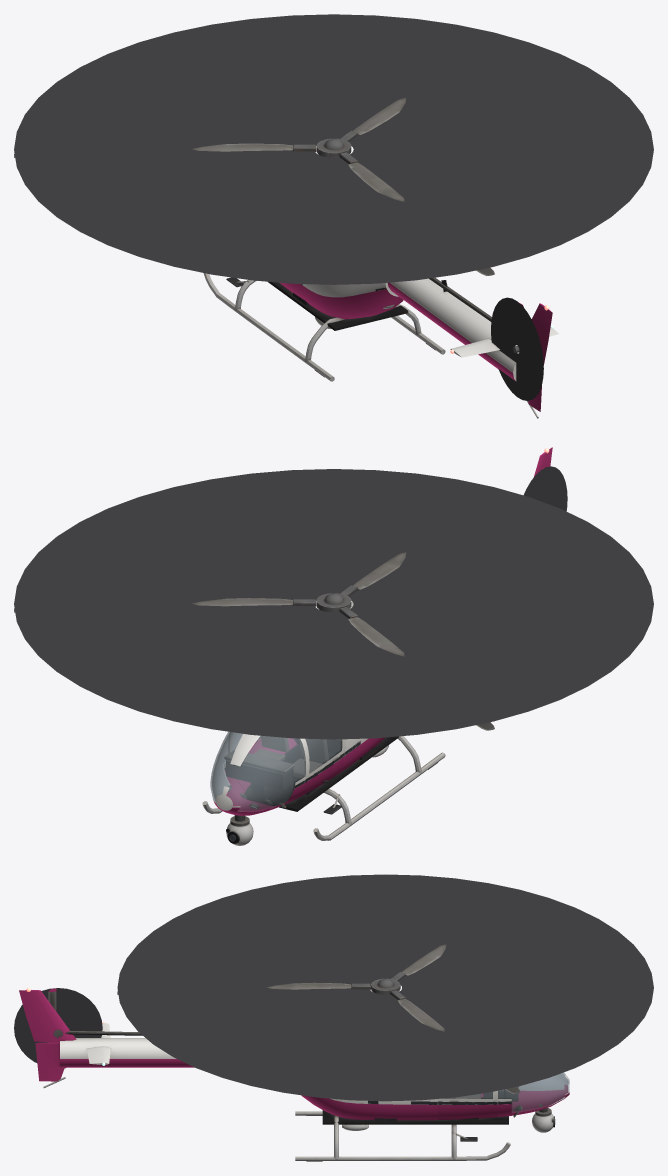
Rendered from news_helicopter.glb.
The picture shows the model from 3 angles, top to bottom: view 1: azimuth 30°, elevation 25°; view 2: azimuth 150°, elevation 25°; view 3: azimuth 270°, elevation 25°; orthographic projection. The views are drawn at different scales.
Visible parts, largest first — view 1: rotor_main_blur, lod0, rotor_tail_blur, rotor_main, interior; view 2: rotor_main_blur, lod0, interior, rotor_main, door_fl, rotor_tail_blur; view 3: rotor_main_blur, lod0, rotor_tail_blur, rotor_main, interior, door_fr.
Part boxes in pixels (x1=…): rotor_main_blur: x1=14, y1=14, x2=653, y2=284; lod0: x1=203, y1=273, x2=558, y2=418; rotor_tail_blur: x1=491, y1=297, x2=543, y2=400; rotor_main: x1=14, y1=97, x2=494, y2=275; interior: x1=268, y1=281, x2=408, y2=330; rotor_main_blur: x1=14, y1=469, x2=653, y2=739; lod0: x1=202, y1=447, x2=552, y2=845; interior: x1=224, y1=735, x2=398, y2=811; rotor_main: x1=14, y1=552, x2=494, y2=730; door_fl: x1=292, y1=738, x2=345, y2=800; rotor_tail_blur: x1=523, y1=466, x2=567, y2=511; rotor_main_blur: x1=117, y1=874, x2=653, y2=1101; lod0: x1=19, y1=987, x2=569, y2=1161; rotor_tail_blur: x1=14, y1=988, x2=102, y2=1062; rotor_main: x1=117, y1=944, x2=520, y2=1093; interior: x1=322, y1=1086, x2=518, y2=1124; door_fr: x1=437, y1=1090, x2=497, y2=1119.
Size of what is drawn, in the model's own units: 9.8 by 3.2 by 11.69.
Materials: 9 (7 with a texture image).
